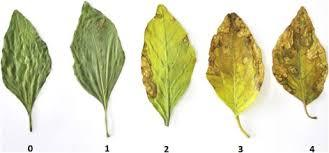root_rot: (6, 15, 329, 131)
